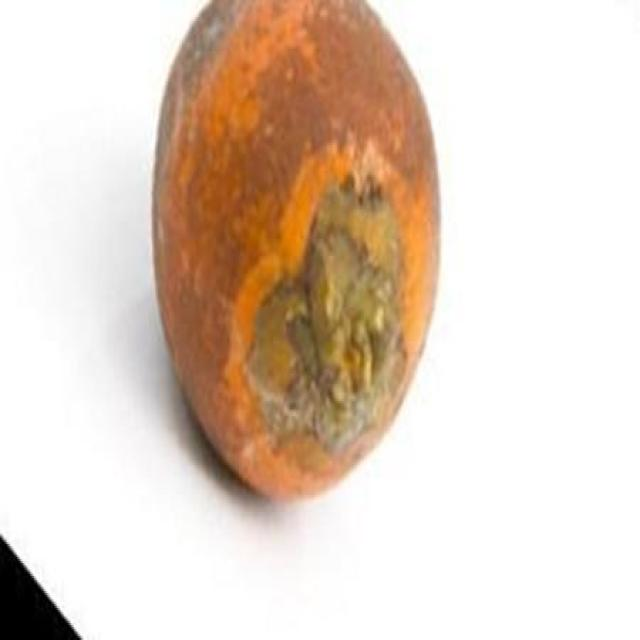good: (151, 0, 442, 506)
